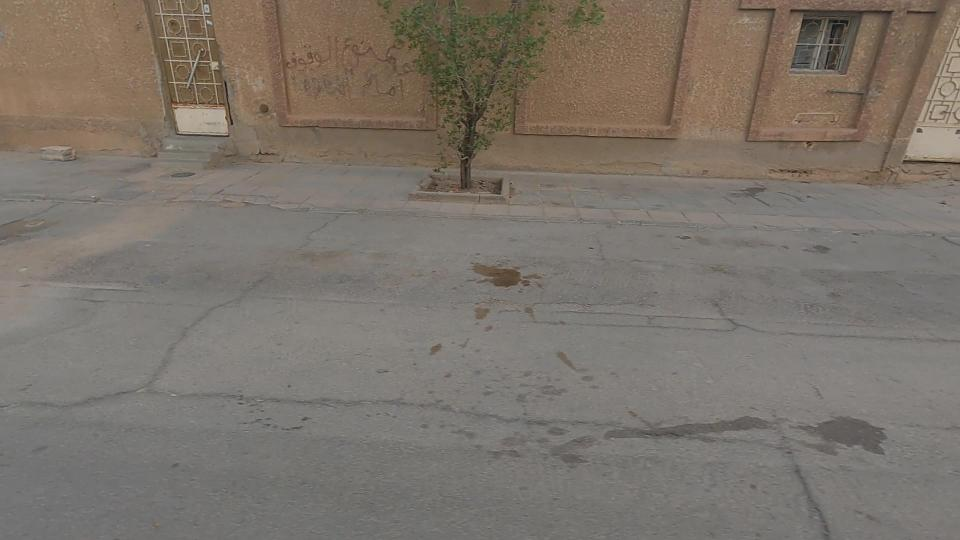POTHOLES: (31, 317, 365, 479), (287, 344, 534, 476)
